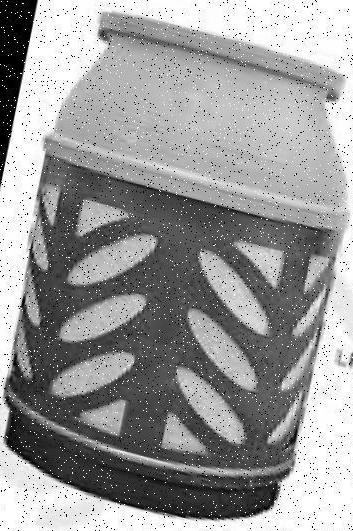cylinder: (1, 1, 353, 531)
